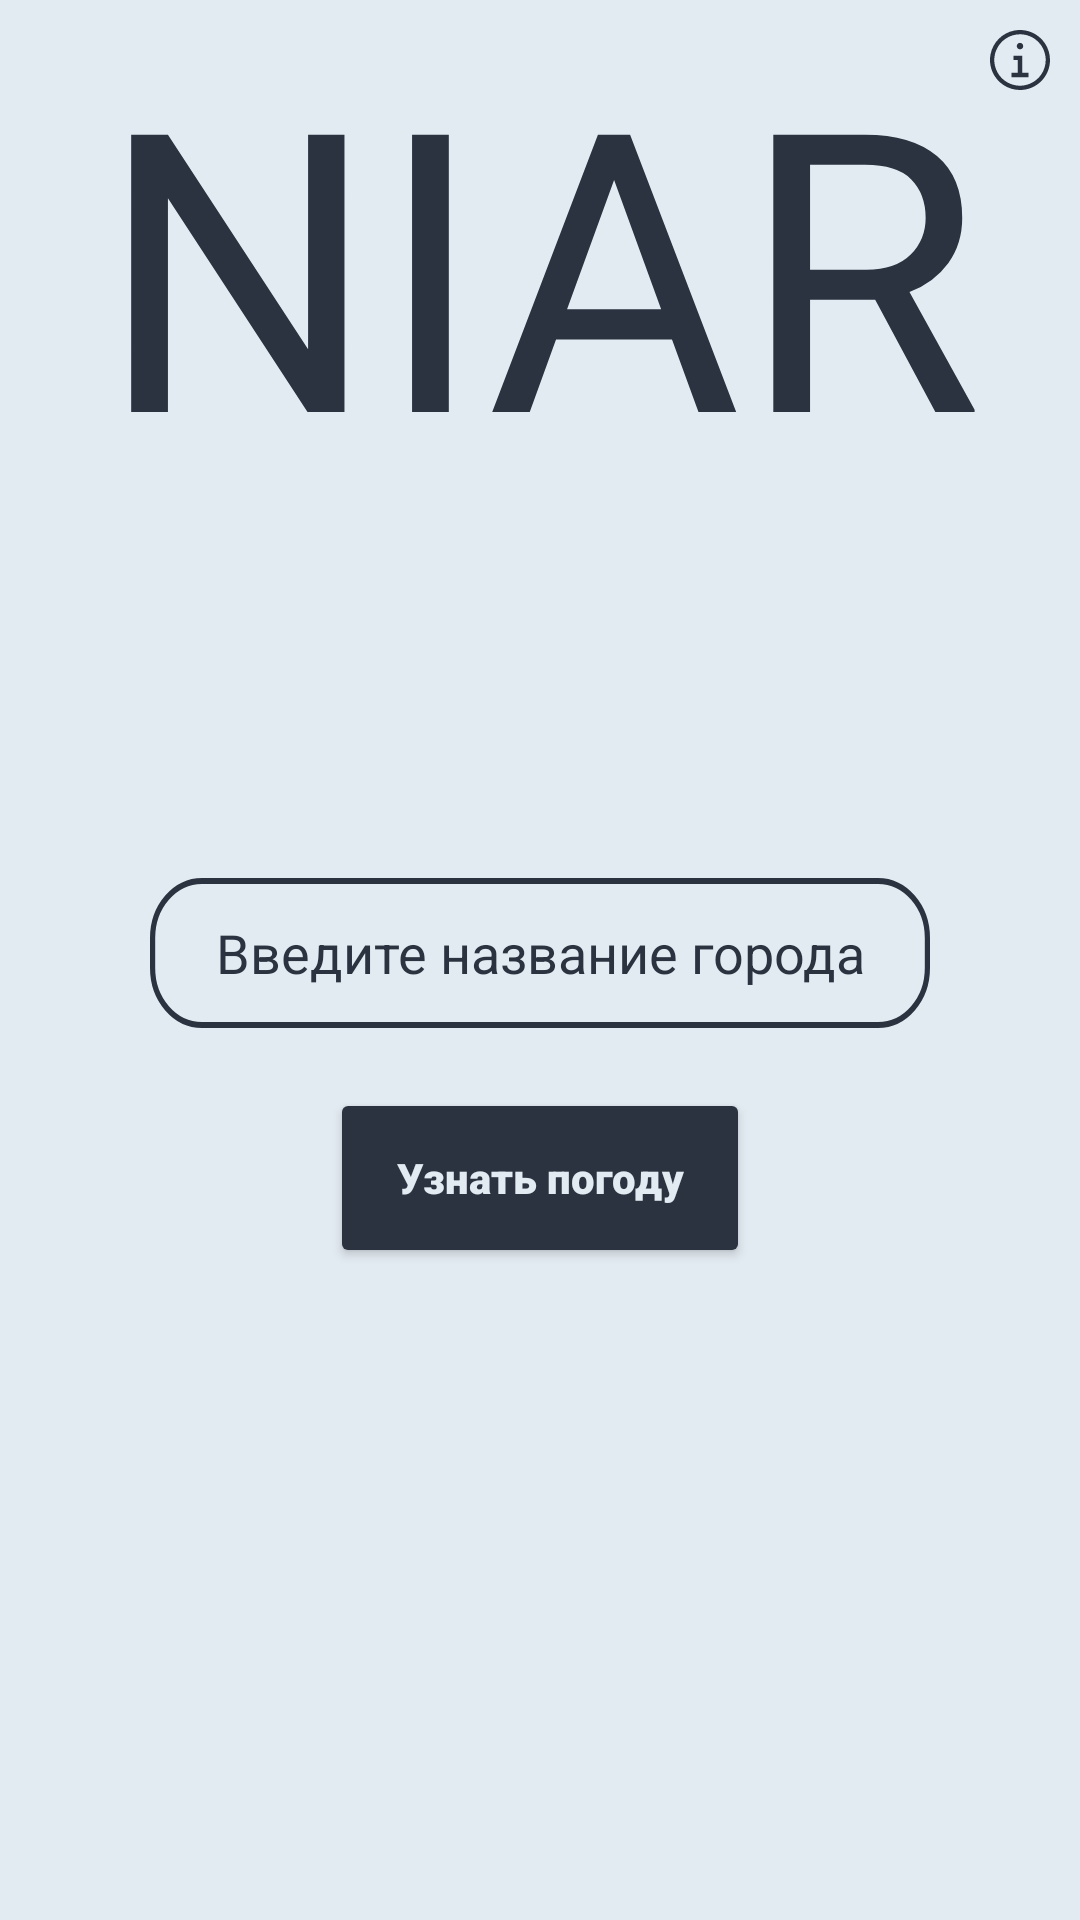

Screen size 1080 × 1920. Icon name, then its center in pixels as (x=x, y=y):
info: (x=1020, y=60)
